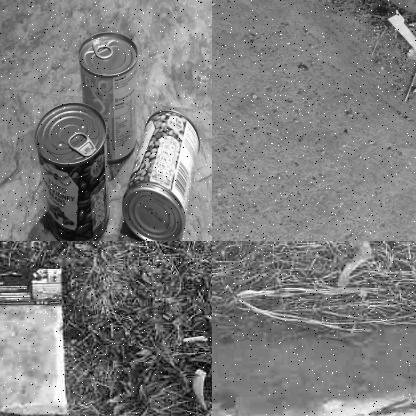metal: (123, 105, 199, 240), (40, 103, 112, 240), (77, 30, 139, 162)
plastic: (0, 264, 70, 415), (385, 11, 415, 96), (341, 241, 376, 291)
